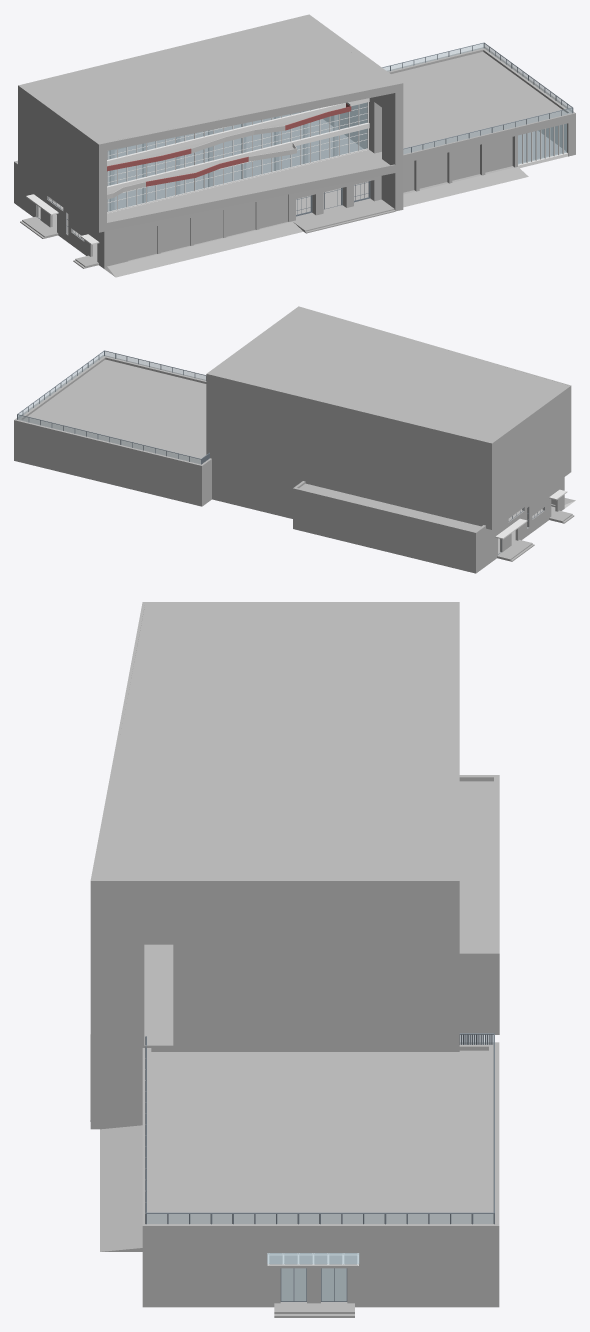
The picture shows the model from 3 angles, top to bottom: view 1: azimuth 30°, elevation 25°; view 2: azimuth 150°, elevation 25°; view 3: azimuth 270°, elevation 25°; orthographic projection. The views are drawn at different scales.
Visible parts, largest first — view 1: Obj3d66-1371392-3409-71, Obj3d66-1371392-3441-814, Obj3d66-1371392-3438-946, Obj3d66-1371392-3402-103, Obj3d66-1371392-3416-41, Obj3d66-1371392-3439-875, Obj3d66-1371392-3462-858, Obj3d66-1371392-3398-747, Obj3d66-1371392-3418-925, Obj3d66-1371392-3406-413, Obj3d66-1371392-3395-673, Obj3d66-1371392-3401-982 (+22 smaller); view 2: Obj3d66-1371392-3409-71, Obj3d66-1371392-3433-4, Obj3d66-1371392-3441-814, Obj3d66-1371392-3406-413, Obj3d66-1371392-3431-864, Obj3d66-1371392-3432-734, Obj3d66-1371392-3402-103, Obj3d66-1371392-3395-673, Obj3d66-1371392-3422-930; view 3: Obj3d66-1371392-3409-71, Obj3d66-1371392-3441-814, Obj3d66-1371392-3433-4, Obj3d66-1371392-3401-982, Obj3d66-1371392-3404-797, Obj3d66-1371392-3431-864, Obj3d66-1371392-3439-875, Obj3d66-1371392-3395-673, Obj3d66-1371392-3432-734, Obj3d66-1371392-3455-369, Obj3d66-1371392-3440-978, Obj3d66-1371392-3402-103 (+1 smaller).
Boxes of the visible parts, x1,y1,x2,y2 form: Obj3d66-1371392-3409-71: (18,14,571,231); Obj3d66-1371392-3441-814: (108,52,566,211); Obj3d66-1371392-3438-946: (107,102,367,211); Obj3d66-1371392-3402-103: (98,83,403,232); Obj3d66-1371392-3416-41: (128,194,288,260); Obj3d66-1371392-3439-875: (107,150,389,222); Obj3d66-1371392-3462-858: (107,102,368,213); Obj3d66-1371392-3398-747: (403,137,512,192); Obj3d66-1371392-3418-925: (104,221,303,277); Obj3d66-1371392-3406-413: (14,161,106,268); Obj3d66-1371392-3395-673: (403,111,575,163); Obj3d66-1371392-3401-982: (403,166,528,207); Obj3d66-1371392-3409-71: (14,307,570,529); Obj3d66-1371392-3433-4: (207,373,485,572); Obj3d66-1371392-3441-814: (23,359,481,531); Obj3d66-1371392-3406-413: (473,477,564,573); Obj3d66-1371392-3431-864: (18,351,205,463); Obj3d66-1371392-3432-734: (17,350,209,464); Obj3d66-1371392-3402-103: (298,306,571,471); Obj3d66-1371392-3395-673: (101,355,206,383); Obj3d66-1371392-3422-930: (497,540,534,561); Obj3d66-1371392-3409-71: (91,602,499,1307); Obj3d66-1371392-3441-814: (151,781,493,1221); Obj3d66-1371392-3433-4: (453,609,499,1034); Obj3d66-1371392-3401-982: (100,1125,142,1251); Obj3d66-1371392-3404-797: (90,1054,142,1129); Obj3d66-1371392-3431-864: (147,1035,493,1223); Obj3d66-1371392-3439-875: (144,944,173,1038); Obj3d66-1371392-3395-673: (142,1048,151,1307); Obj3d66-1371392-3432-734: (145,1033,494,1224); Obj3d66-1371392-3455-369: (281,1268,346,1300); Obj3d66-1371392-3440-978: (281,1268,346,1297); Obj3d66-1371392-3402-103: (90,602,145,1053).
Size of the model in its own units: 7743 by 1880 by 2809.
